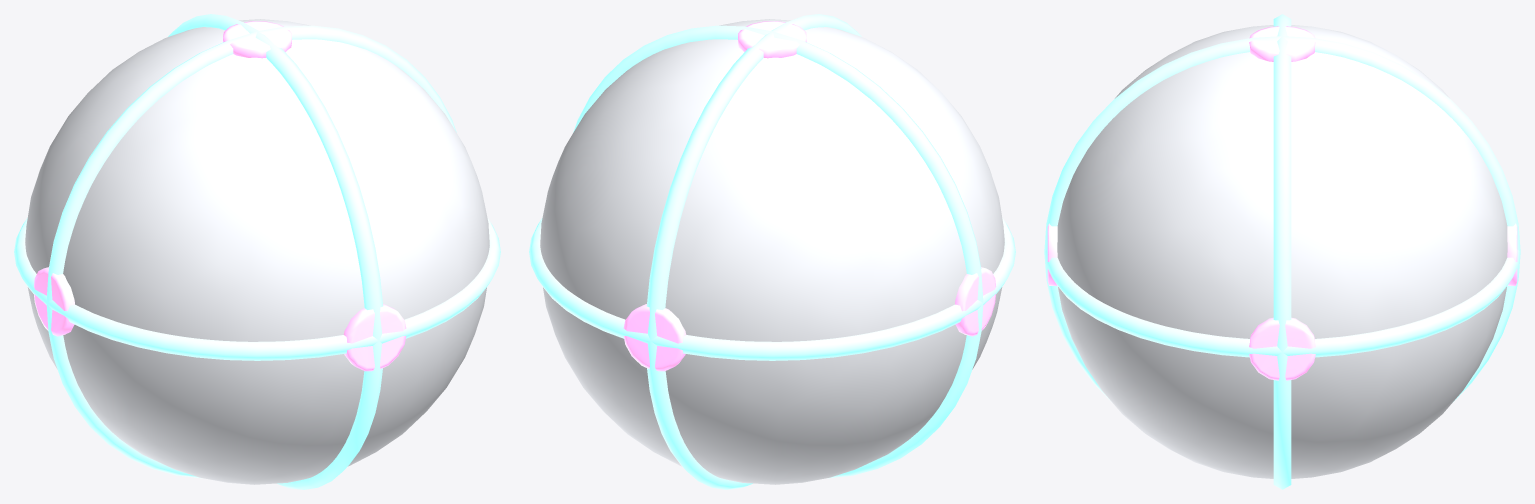
The model's file is Energy-Ball-Exact-Mesh-v2.0.0.glb.
3 renders of one model, left to right at view 1: azimuth 30°, elevation 25°; view 2: azimuth 150°, elevation 25°; view 3: azimuth 270°, elevation 25°, orthographic. The views are drawn at different scales.
Visible parts, largest first — view 1: ballShell, seamMeridianZ, seamMeridianX, seamEquator, pole4, pole2, pole0; view 2: ballShell, seamMeridianZ, seamMeridianX, seamEquator, pole5, pole2, pole0; view 3: ballShell, seamMeridianX, seamEquator, seamMeridianZ, pole3, pole0.
Boxes of the visible parts, left/top/right/bottom form: ballShell: left=25, top=19, right=489, bottom=484; seamMeridianZ: left=46, top=25, right=456, bottom=478; seamMeridianX: left=168, top=14, right=383, bottom=489; seamEquator: left=14, top=217, right=500, bottom=360; pole4: left=343, top=304, right=406, bottom=371; pole2: left=34, top=267, right=74, bottom=336; pole0: left=223, top=21, right=291, bottom=58; ballShell: left=540, top=19, right=1004, bottom=484; seamMeridianZ: left=573, top=25, right=983, bottom=478; seamMeridianX: left=646, top=14, right=861, bottom=489; seamEquator: left=529, top=217, right=1015, bottom=360; pole5: left=623, top=304, right=686, bottom=371; pole2: left=955, top=267, right=995, bottom=336; pole0: left=738, top=21, right=806, bottom=58; ballShell: left=1057, top=25, right=1507, bottom=478; seamMeridianX: left=1044, top=36, right=1520, bottom=401; seamEquator: left=1044, top=250, right=1520, bottom=357; seamMeridianZ: left=1273, top=14, right=1291, bottom=489; pole3: left=1249, top=317, right=1315, bottom=380; pole0: left=1249, top=26, right=1315, bottom=61.
Size of the model in its own units: 0.836 by 0.836 by 0.836.
